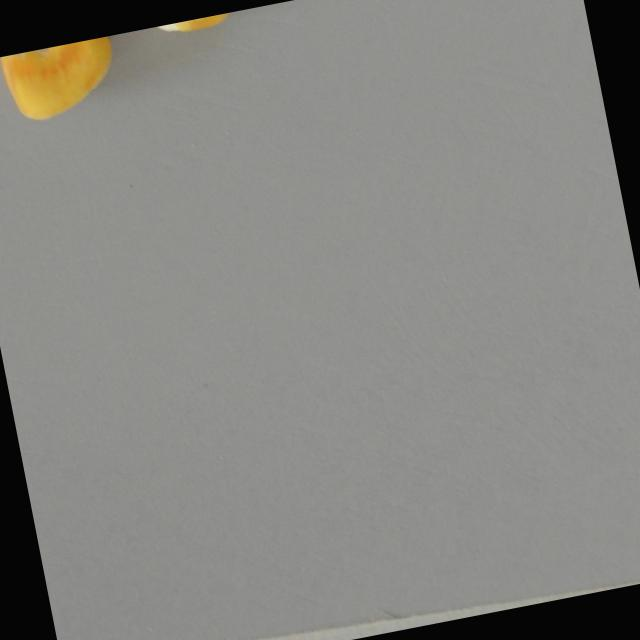dañado: (0, 34, 127, 128), (130, 8, 253, 58)
